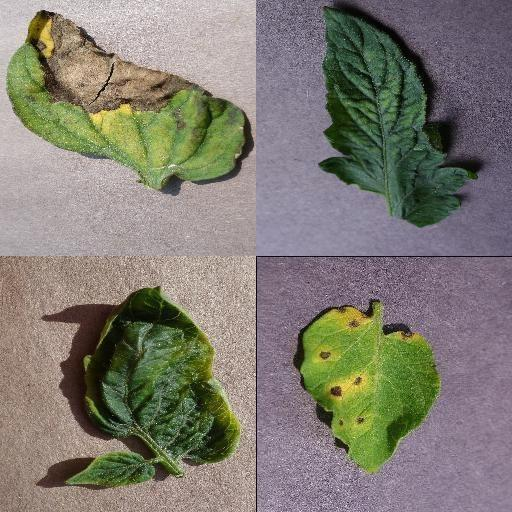Late Blight: (6, 9, 246, 181)
Mosaic Virus: (319, 5, 477, 229)
Septoria: (297, 305, 437, 471)
Yellow Leaf Curl Virus: (83, 284, 242, 468), (65, 453, 155, 489)
